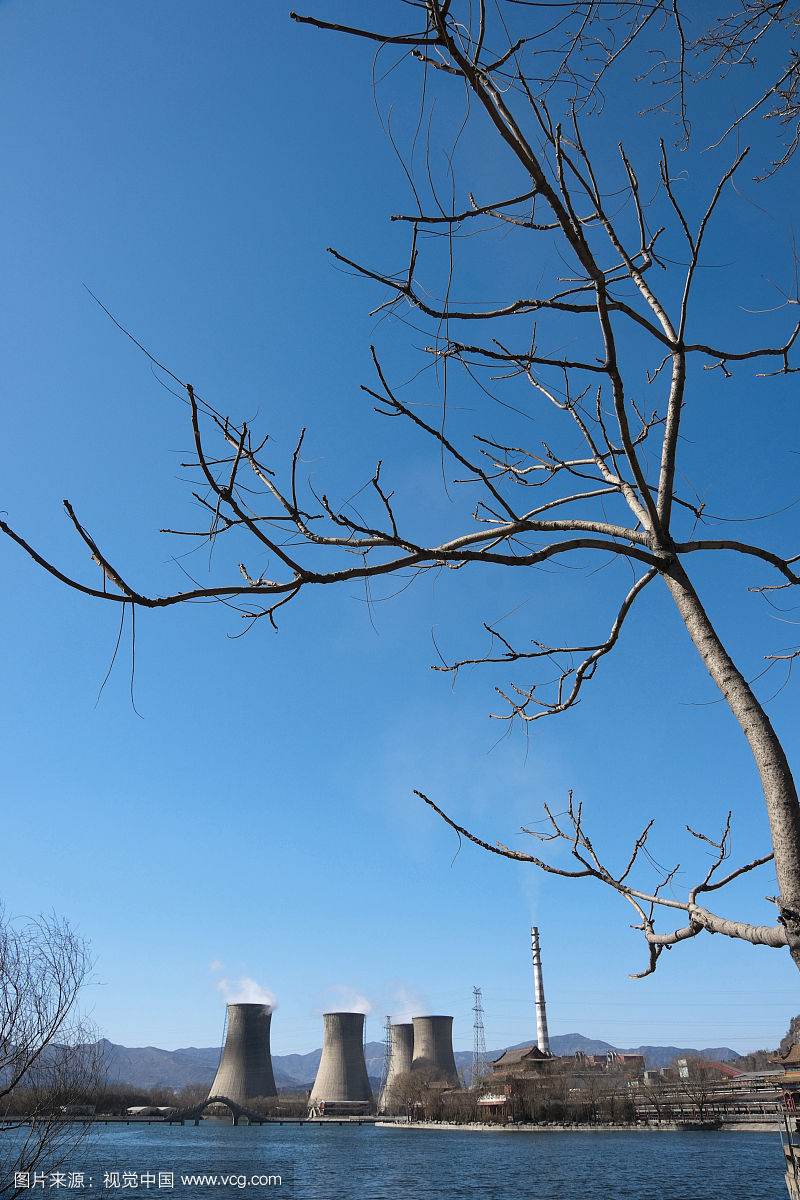dust: (193, 963, 283, 1015)
